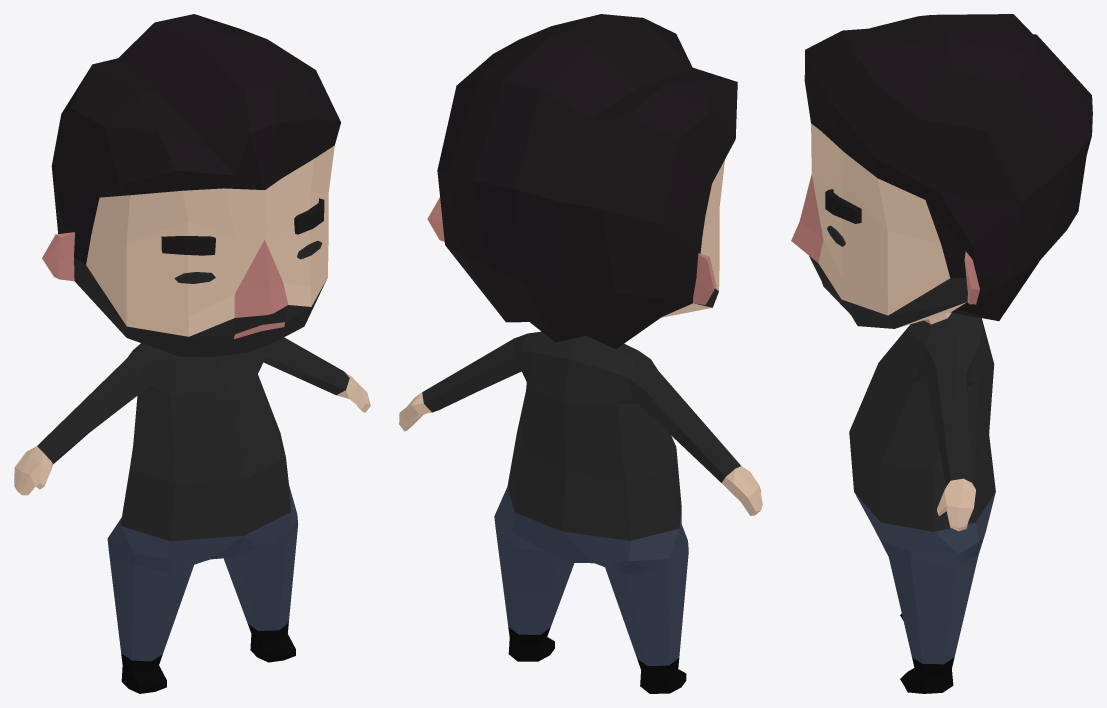
File: man.glb
The picture shows the model from 3 angles, left to right: view 1: azimuth 30°, elevation 25°; view 2: azimuth 150°, elevation 25°; view 3: azimuth 270°, elevation 25°; orthographic projection. The views are drawn at different scales.
Visible parts, largest first — view 1: Object_3; view 2: Object_3; view 3: Object_3.
Part boxes in pixels (box(x1,y1,x2,y2)): Object_3: box(14, 14, 370, 693); Object_3: box(399, 14, 762, 693); Object_3: box(791, 14, 1092, 693).
Size of the model in its own units: 2 by 3.36 by 1.46.
Materials: 1 (1 with a texture image).
